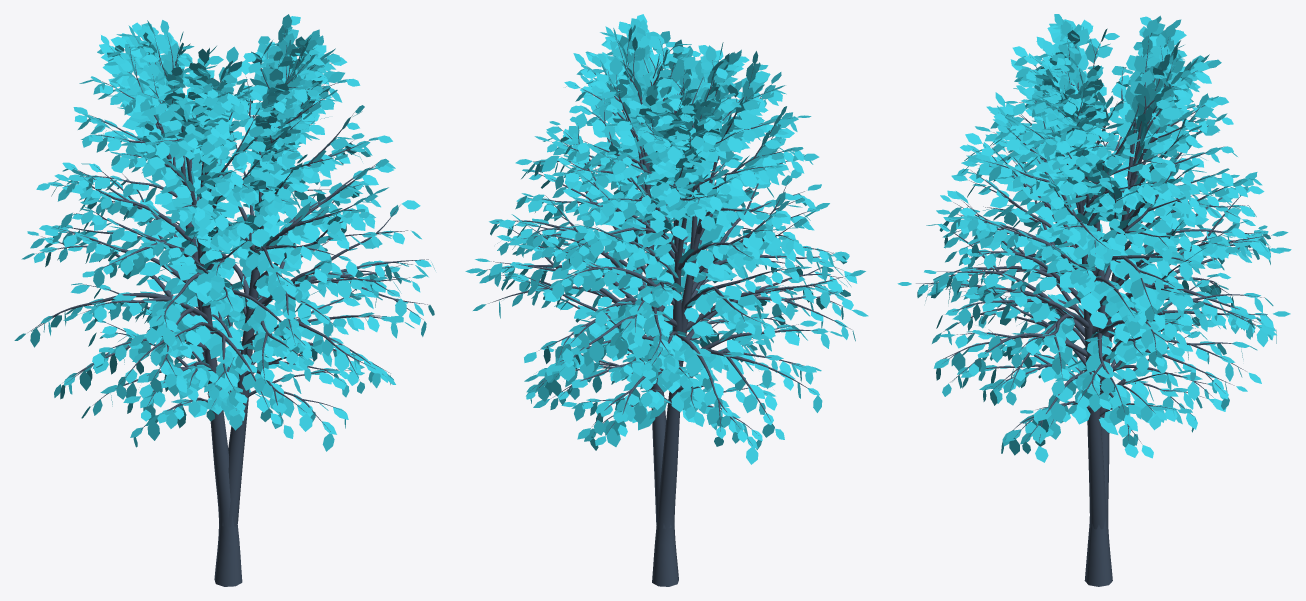
The model's file is tree4.fbx.
3 views of the same model, side by side, from view 1: azimuth 30°, elevation 25°; view 2: azimuth 150°, elevation 25°; view 3: azimuth 270°, elevation 25° (orthographic). The views are drawn at different scales.
Visible parts, largest first — view 1: leaves.003, tree.003; view 2: leaves.003, tree.003; view 3: leaves.003, tree.003.
Part boxes in pixels (x1,y1,x2,y2): leaves.003: (14, 14, 435, 451); tree.003: (28, 26, 428, 586); leaves.003: (465, 14, 868, 464); tree.003: (484, 37, 851, 586); leaves.003: (897, 14, 1291, 462); tree.003: (916, 27, 1274, 586).
Bounding box in the file's own units: 1339 × 1947 × 1289.
